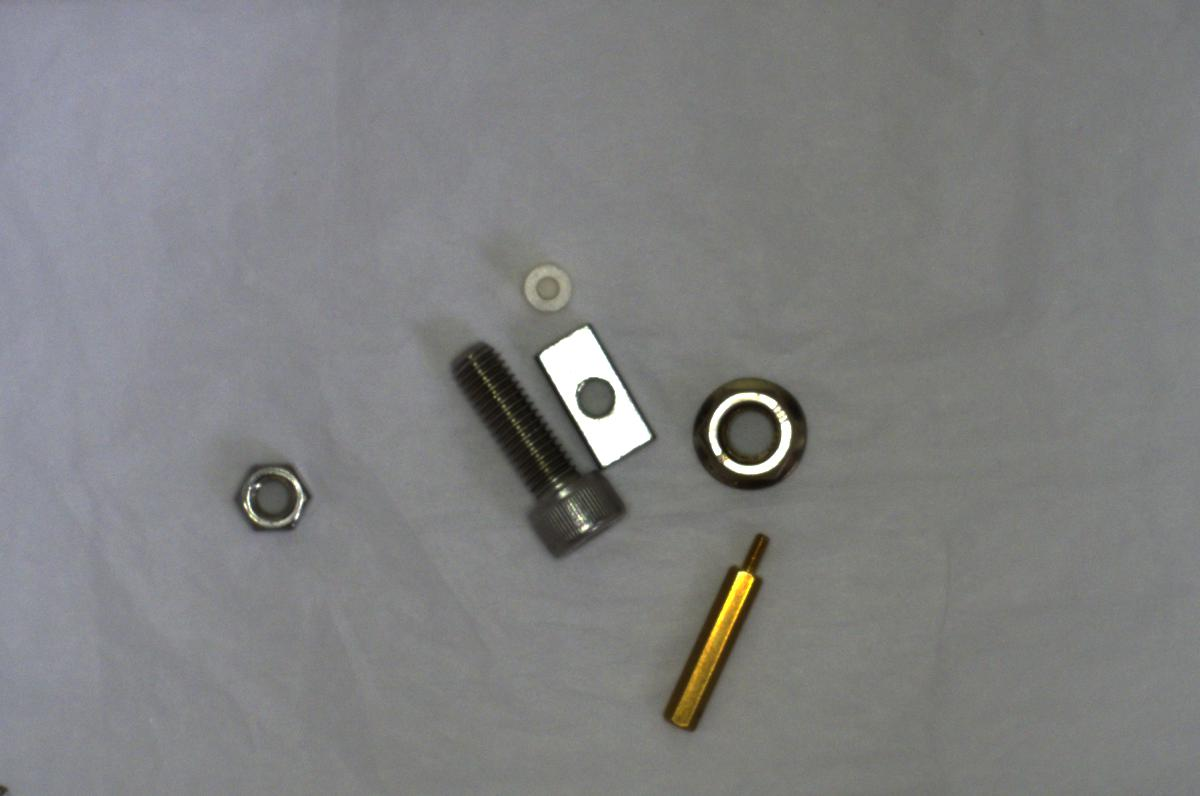Flange nut: (685, 372, 812, 493)
Hexagon nut: (226, 456, 320, 542)
Hexagon pillar: (660, 521, 772, 738)
Hexagon screw: (446, 336, 627, 555)
Plastic cushion pillar: (517, 255, 581, 320)
Rectangular nut: (537, 318, 658, 473)
